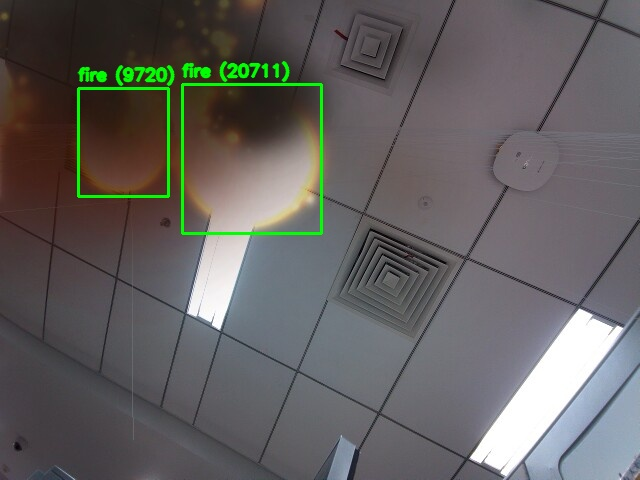fire: (182, 84, 321, 233), (78, 88, 168, 196)
